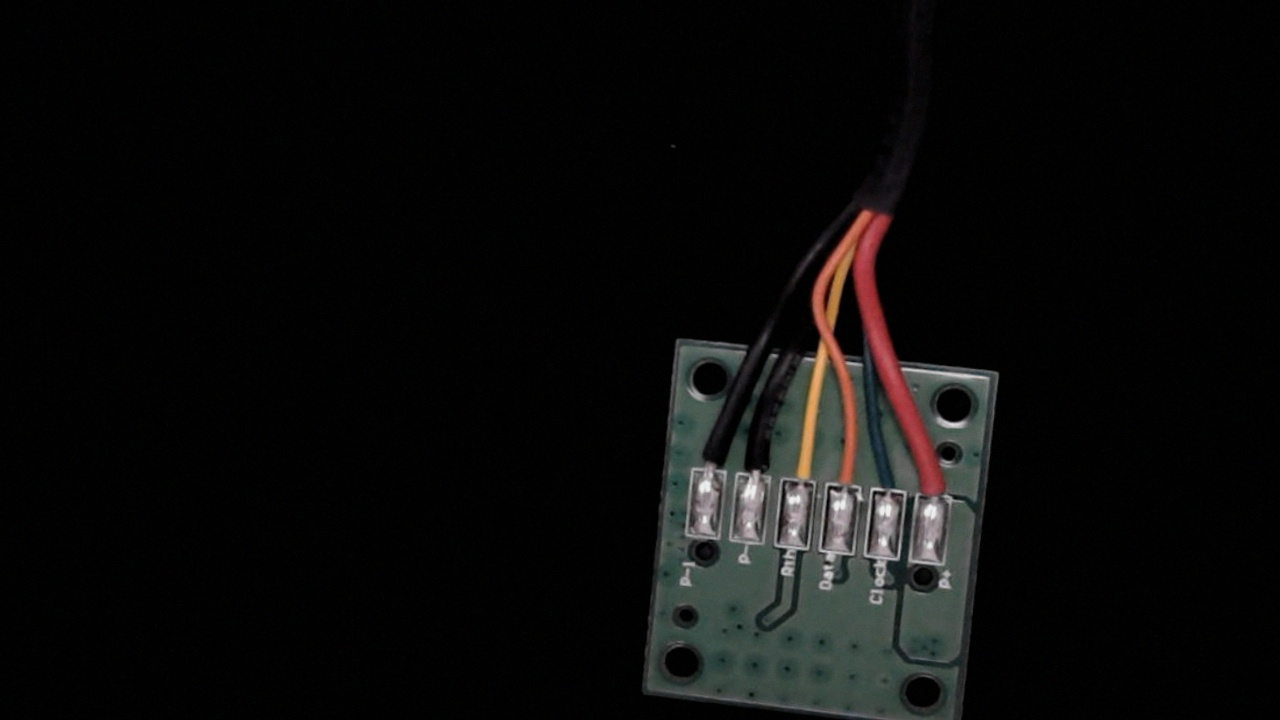Black: (731, 411, 783, 497)
Black1: (687, 410, 737, 489)
Green: (867, 445, 916, 515)
Orange: (822, 425, 872, 509)
Red: (910, 450, 959, 520)
Yellow: (774, 417, 828, 504)
